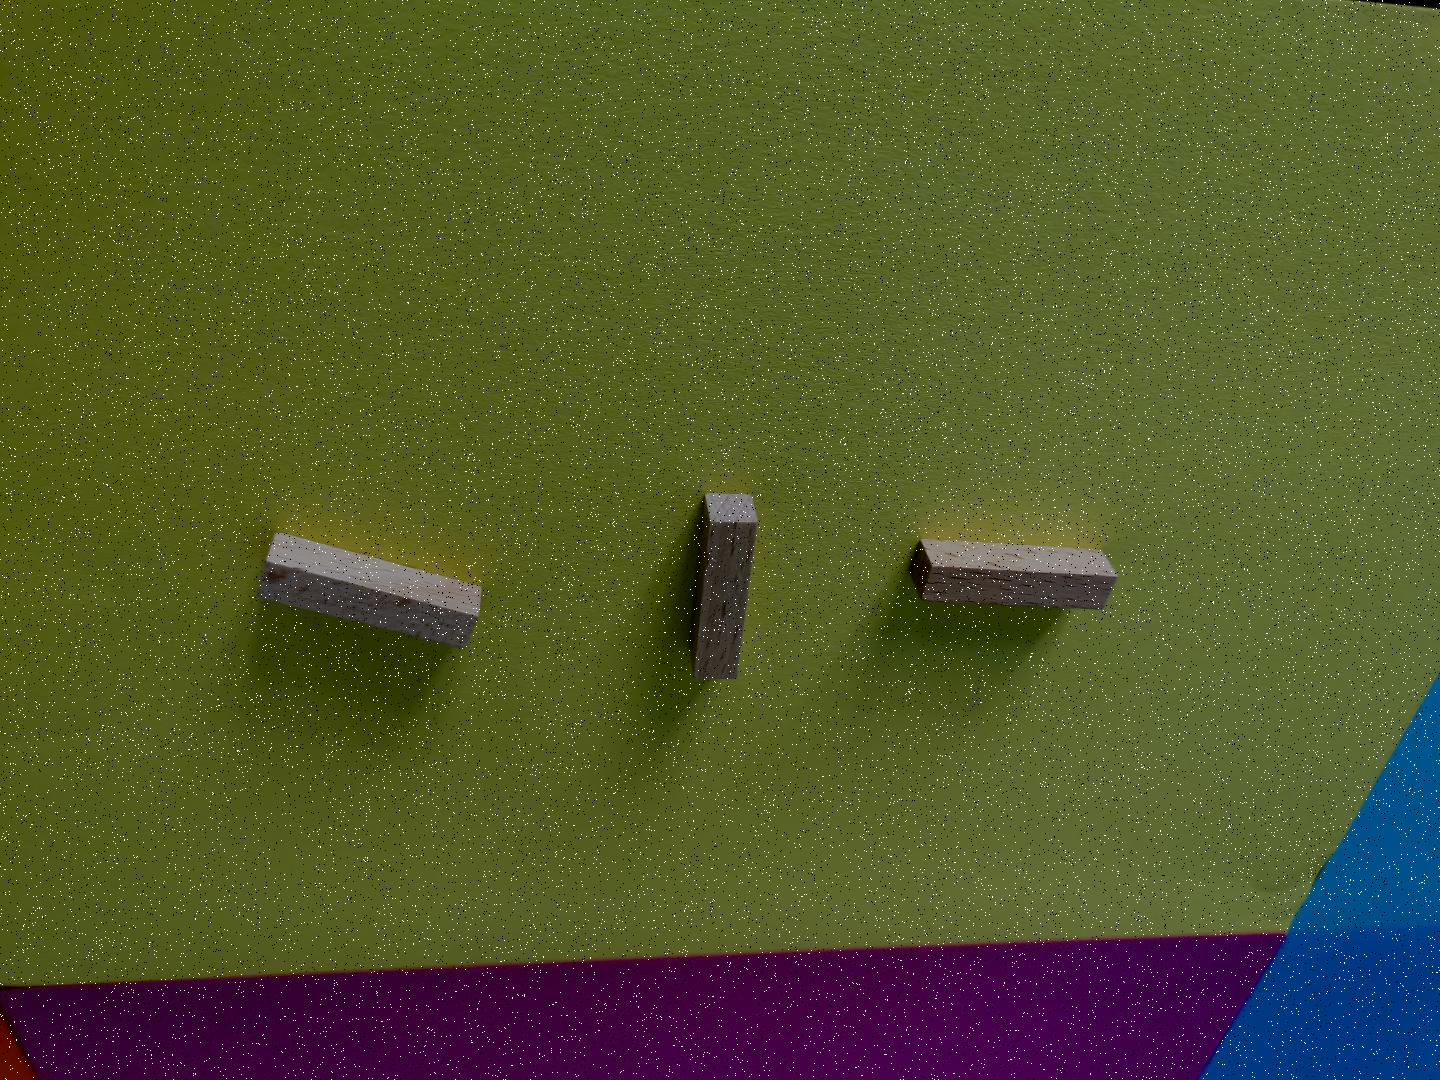jenga: (259, 532, 481, 647), (912, 540, 1117, 610), (692, 492, 756, 677)
